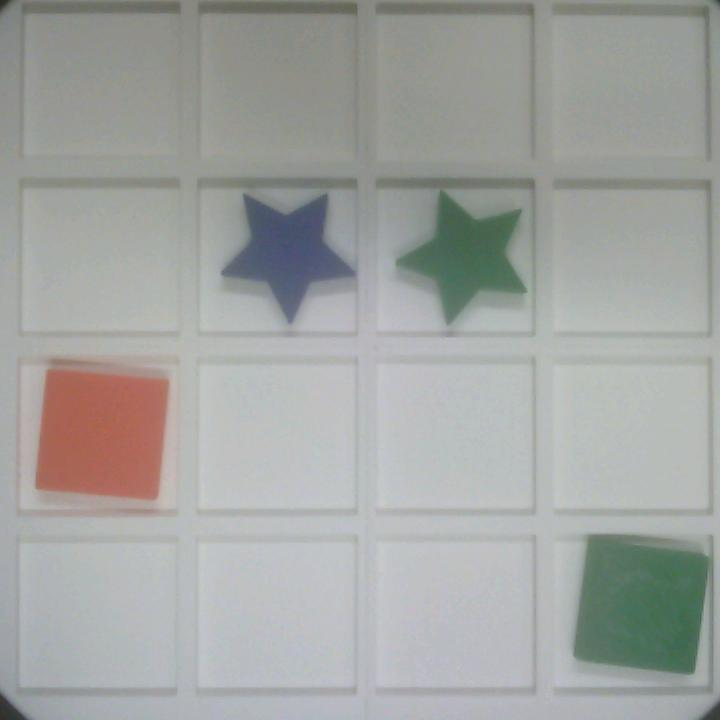Blue star: (217, 190, 355, 327)
Green square: (568, 533, 711, 679)
Green star: (392, 189, 530, 326)
Orange square: (33, 367, 172, 507)
